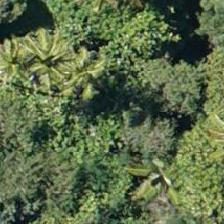coconut_tree: (110, 128, 200, 218), (3, 18, 93, 108), (0, 13, 53, 103)
